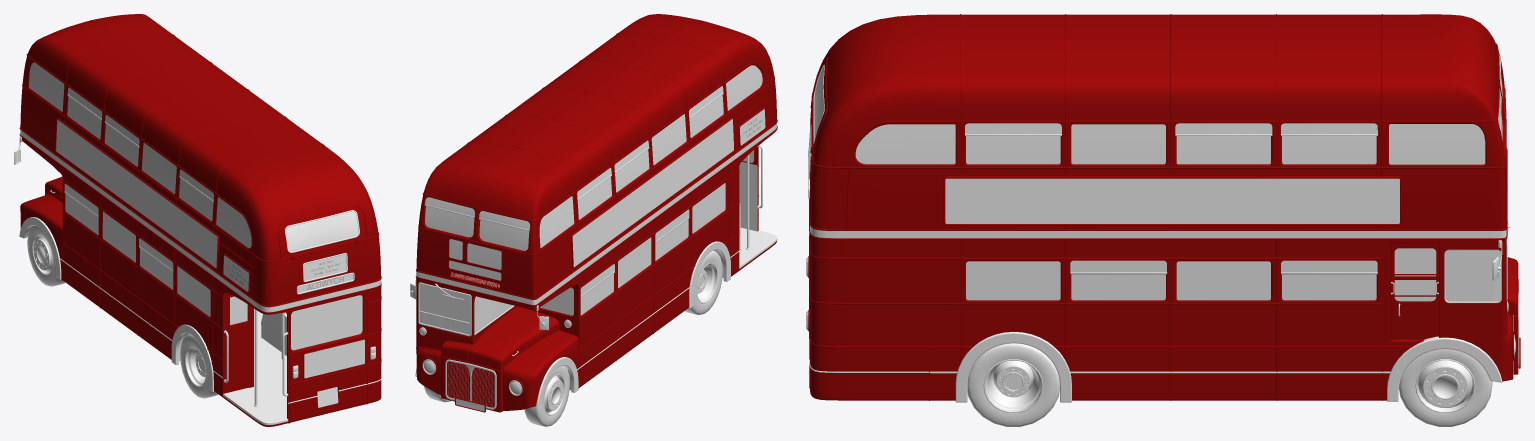
The model's file is bus.glb.
3 renders of one model, left to right at view 1: azimuth 30°, elevation 25°; view 2: azimuth 150°, elevation 25°; view 3: azimuth 270°, elevation 25°, orthographic. The views are drawn at different scales.
Visible parts, largest first — view 1: bus; view 2: bus; view 3: bus.
Boxes of the visible parts, <box> form: bus: <box>14,14,381,426</box>; bus: <box>410,14,777,426</box>; bus: <box>806,14,1520,426</box>.
Bounding box in the file's own units: 1.43 × 2.44 × 4.53.
